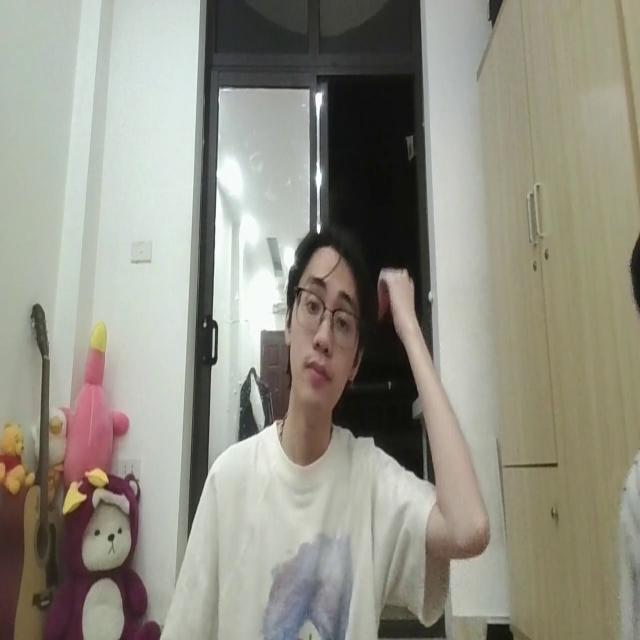student: (161, 222, 489, 640)
